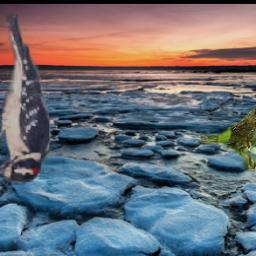Sparrow: (199, 108, 256, 172)
Woodpecker: (0, 15, 51, 187)
